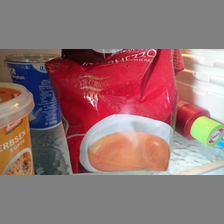coffee: (45, 49, 182, 175)
